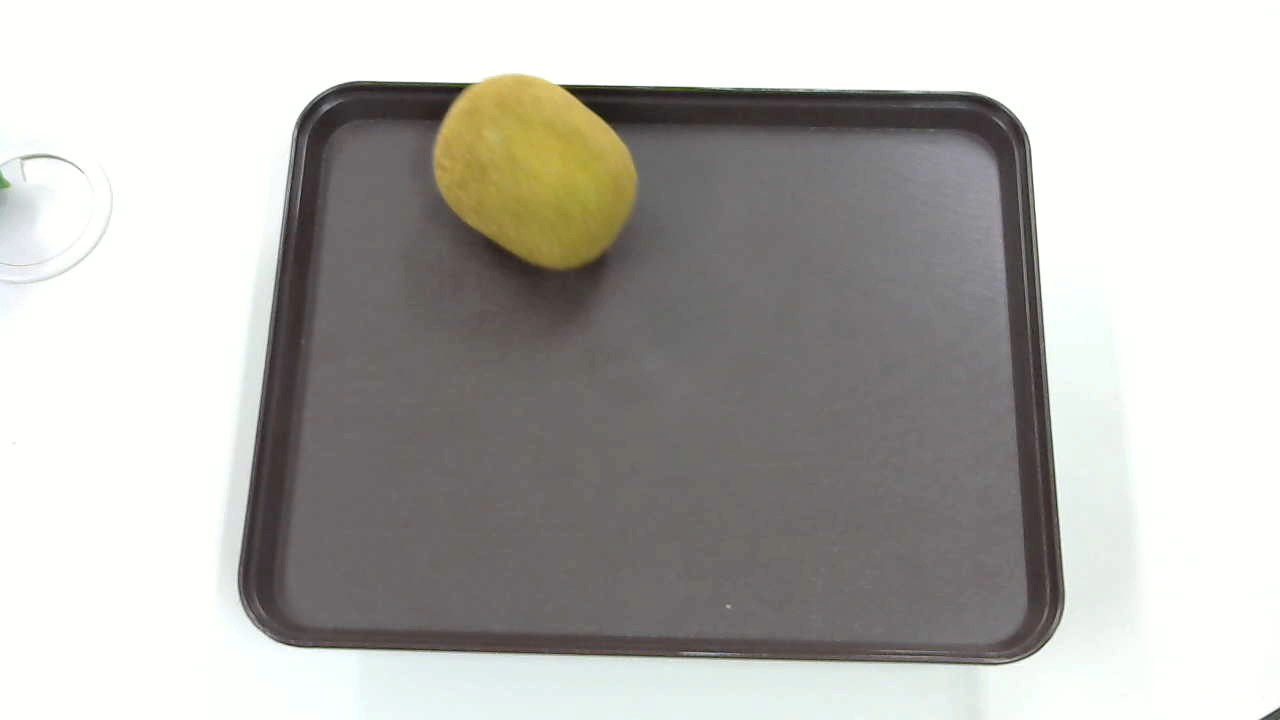mangosteen: (417, 68, 647, 281)
